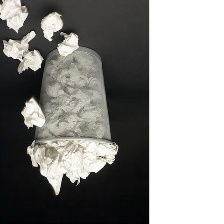tissue: (21, 136, 122, 199), (0, 28, 37, 66), (16, 93, 49, 132), (35, 9, 67, 45), (0, 0, 31, 37), (15, 47, 47, 77), (53, 28, 82, 59)
